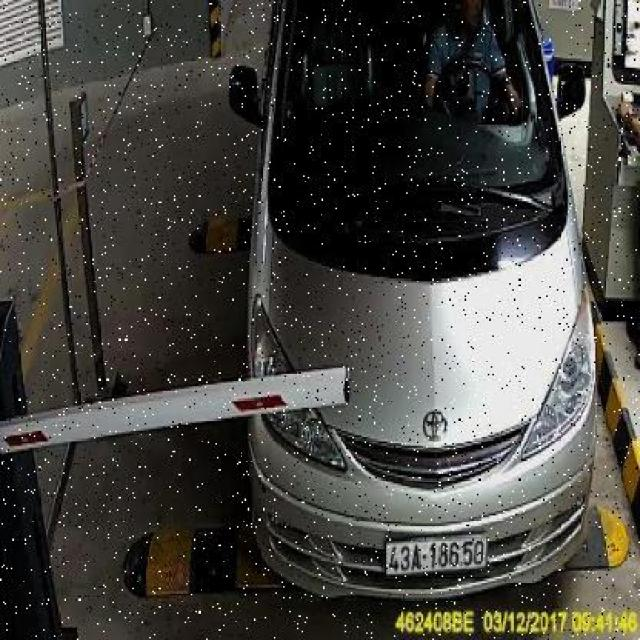number_plate: (385, 531, 489, 578)
